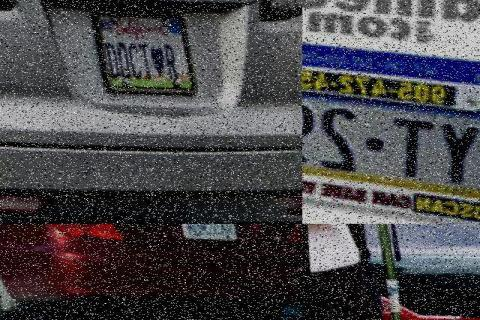LicensePlate: (302, 84, 480, 194), (302, 0, 480, 54), (88, 8, 194, 90), (176, 223, 231, 237)
